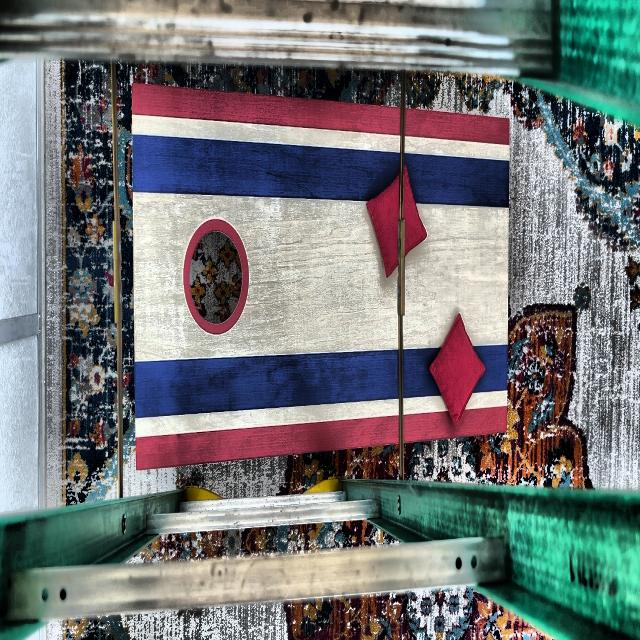board: (134, 120, 506, 432)
hole: (183, 218, 250, 336)
red-bean-bag: (366, 165, 427, 277), (429, 314, 486, 425)
